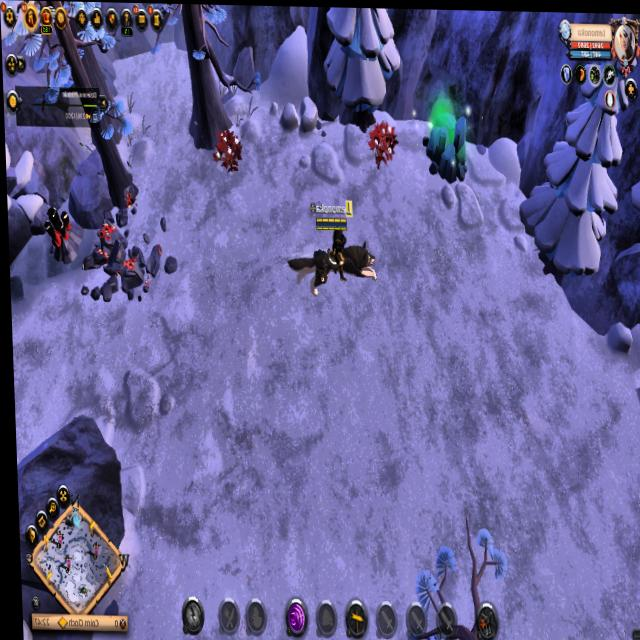fiber tier 5: (369, 117, 396, 172), (212, 130, 241, 176)
ore tier 5: (42, 202, 77, 266)
rock tier 4: (420, 107, 467, 180)
